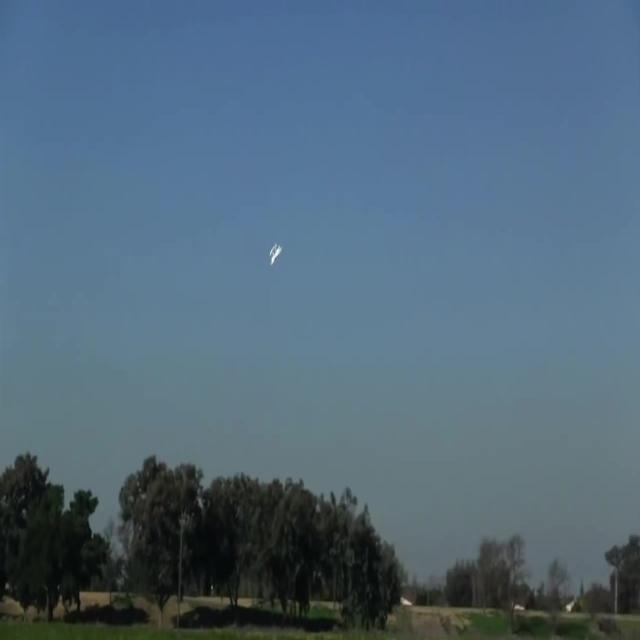iha: (269, 243, 282, 266)
